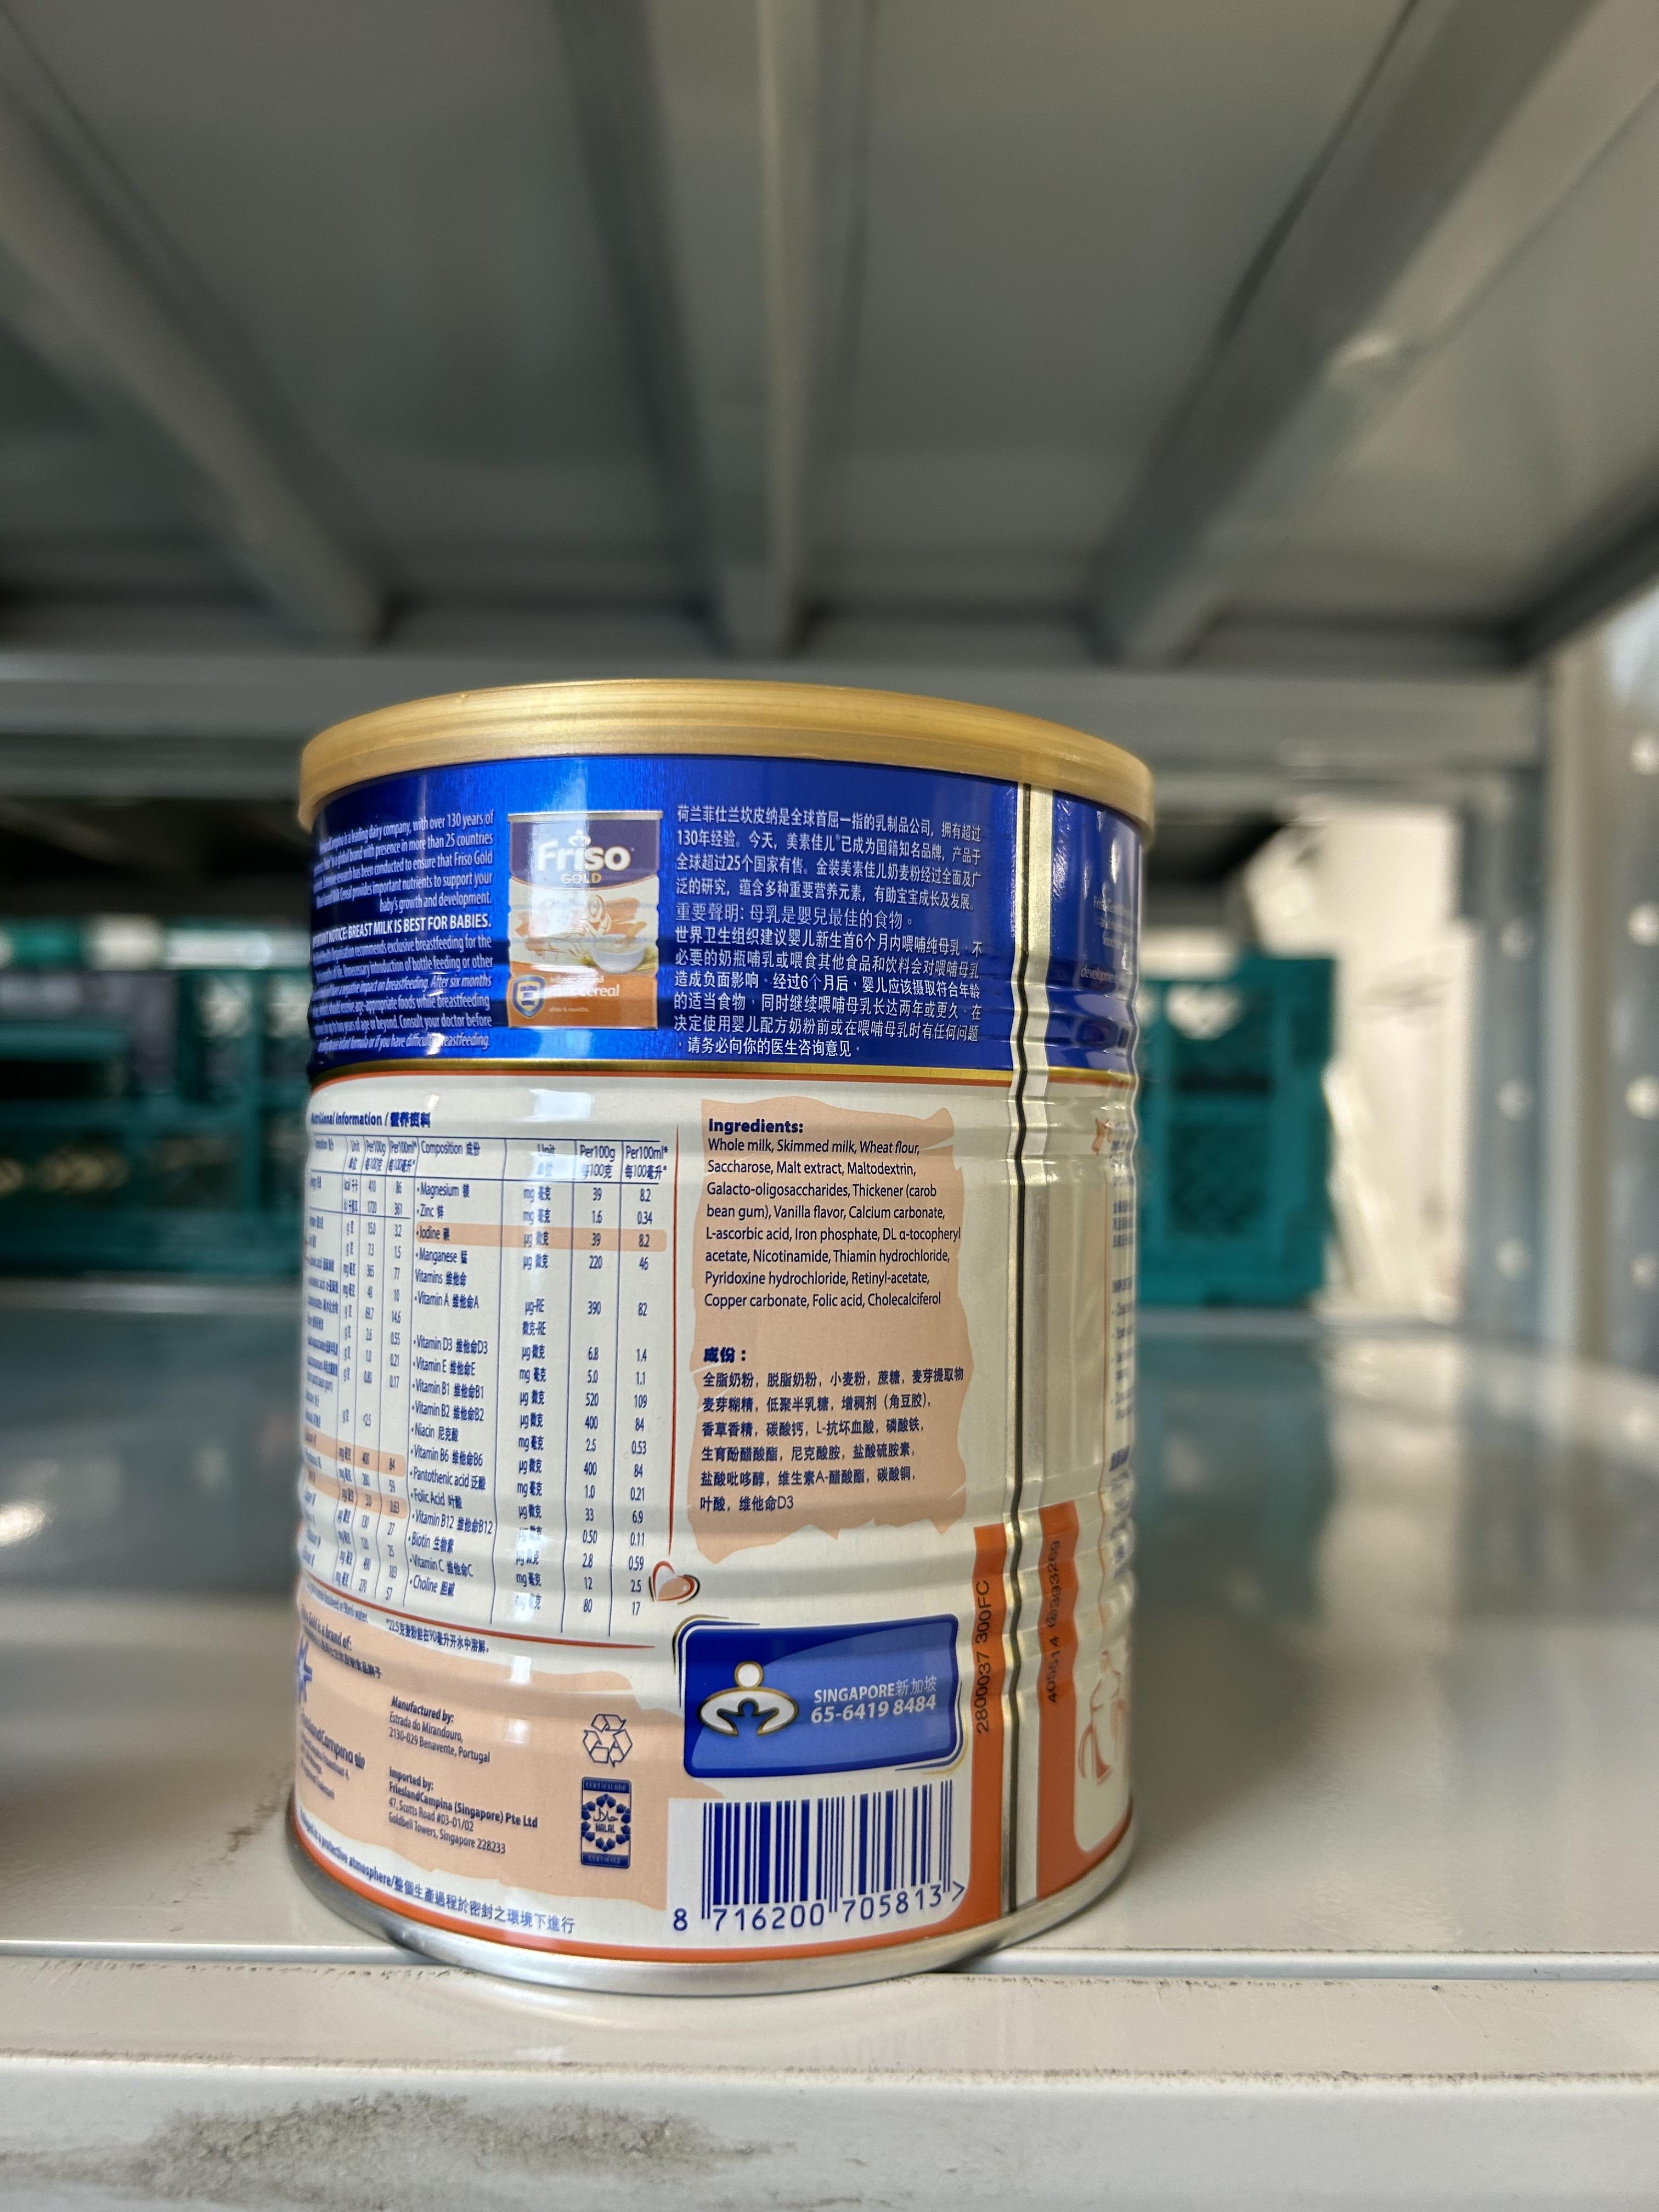object_name: (310, 745, 1127, 1914)
